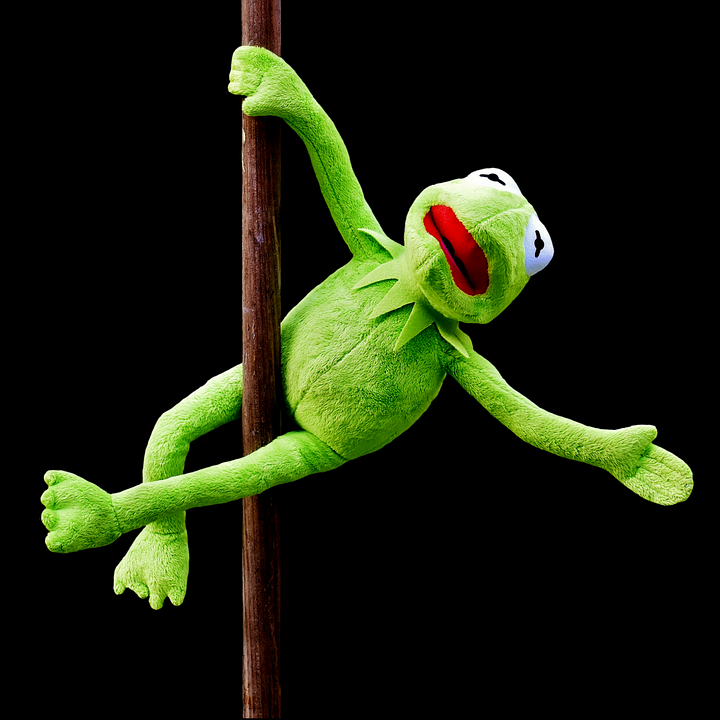kermit: (402, 167, 566, 329)
